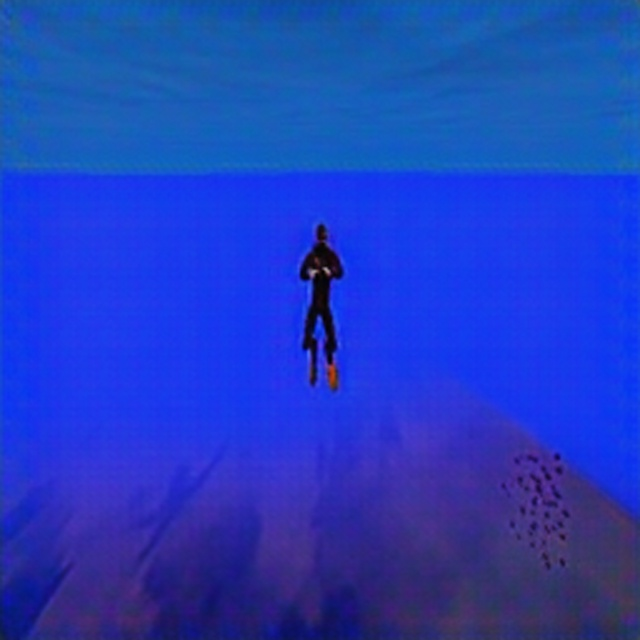diver: (298, 221, 347, 402)
